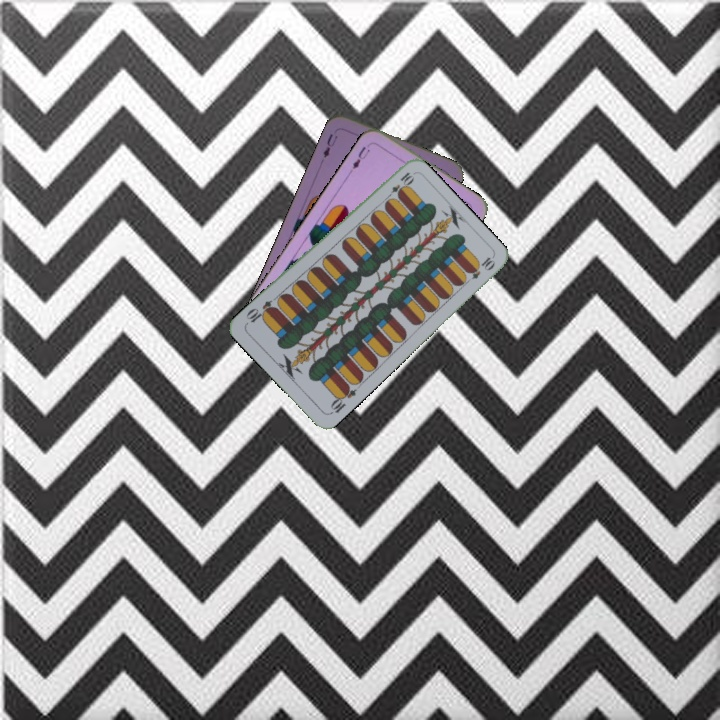E10: (326, 381, 359, 417), (382, 168, 416, 202)
EU: (346, 139, 374, 175), (319, 129, 340, 161)
